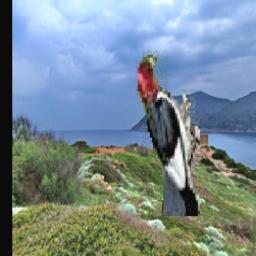Woodpecker: (137, 51, 201, 216)
